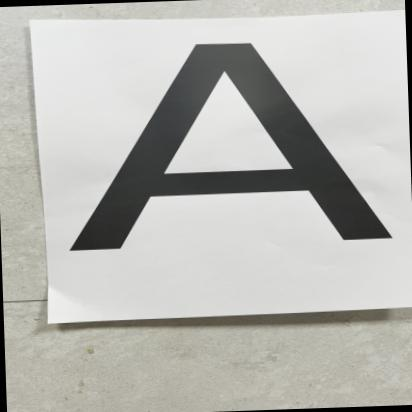seat: (48, 21, 412, 267)
